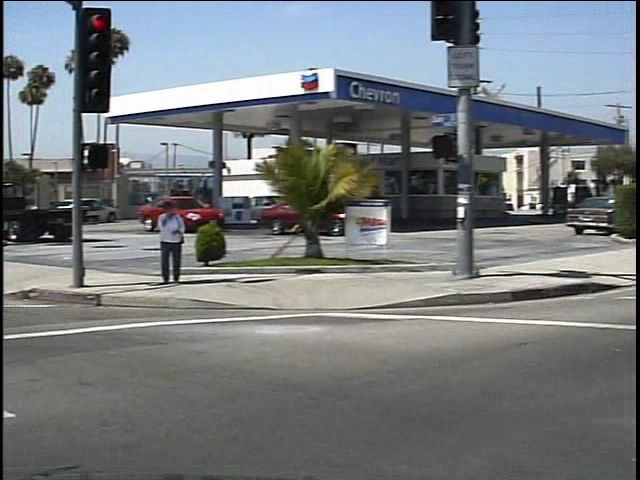person: (146, 197, 180, 291)
